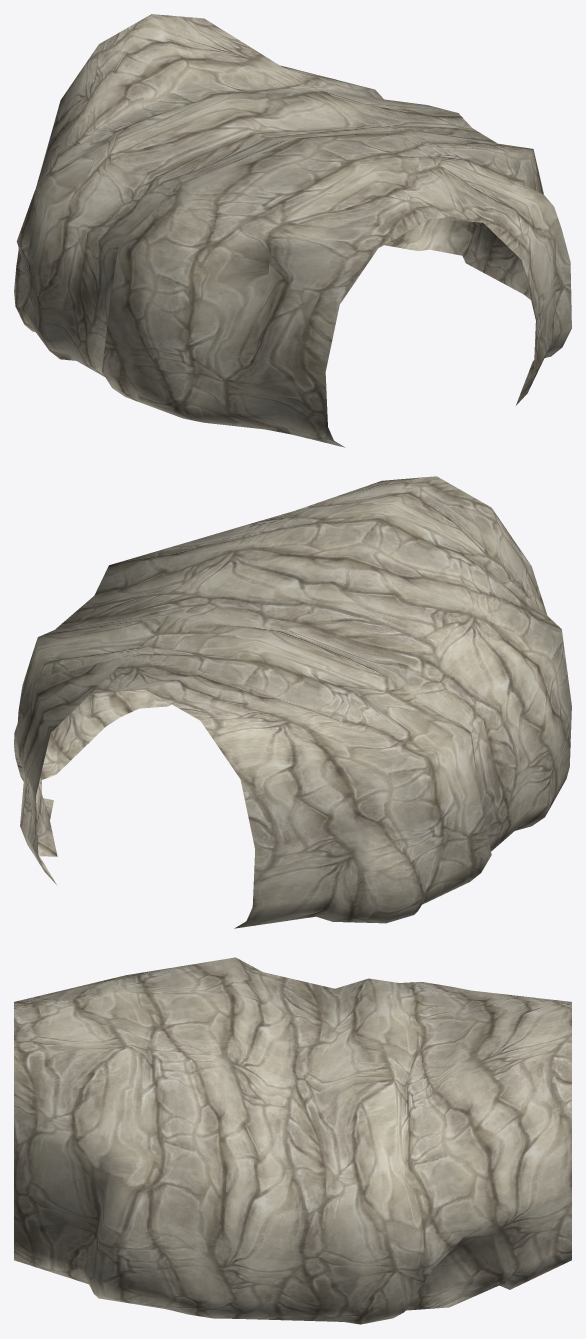
Rendered from cave ceiling round.FBX.
3 views of the same model, one above another, from view 1: azimuth 30°, elevation 25°; view 2: azimuth 150°, elevation 25°; view 3: azimuth 270°, elevation 25° (orthographic). The views are drawn at different scales.
Parts seen in each view (by area): view 1: cave ceiling round; view 2: cave ceiling round; view 3: cave ceiling round.
Boxes of the visible parts, x1=… form: cave ceiling round: x1=14, y1=14, x2=571, y2=447; cave ceiling round: x1=14, y1=476, x2=571, y2=928; cave ceiling round: x1=14, y1=957, x2=571, y2=1324.
Bounding box in the file's own units: 36.67 × 18.56 × 40.
